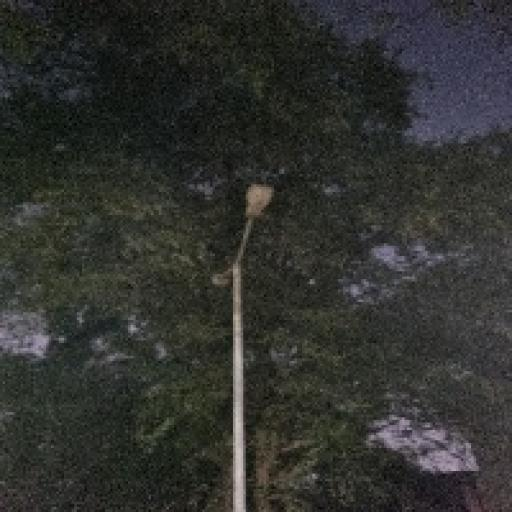Not Working: (232, 176, 280, 230), (198, 259, 242, 296)
